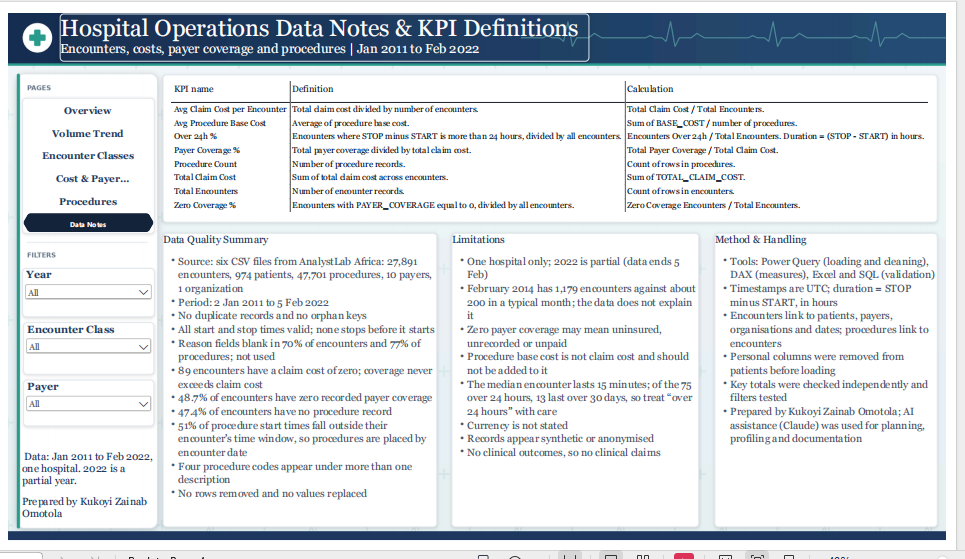

What the dashboard file says about the page in this screenshot:
{"tool":"powerbi","page":{"name":"Data Notes","canvas":[1920,1080],"ordinal":5},"visuals":[{"type":"textbox","box":[104.6,0,1085.1,97.8],"z":0},{"type":"slicer","fields":{"Values":["DateTable.Year"]},"box":[28.5,522.1,270.6,99.7],"z":1000},{"type":"slicer","fields":{"Values":["payers.NAME"]},"box":[29.6,750.7,268.2,94.9],"z":2000},{"type":"textbox","box":[28.5,894.7,270.6,159],"z":9000},{"type":"pageNavigator","box":[28.5,173.3,270.6,277.7],"z":10000},{"type":"slicer","fields":{"Values":["encounters.ENCOUNTERCLASS"]},"box":[29.6,632.9,268.2,106.8],"z":14000},{"type":"tableEx","fields":{"Values":["KPI_Definitions.KPI name","KPI_Definitions.Definition","KPI_Definitions.Calculation"]},"box":[316.2,125.1,1587.9,302.6],"z":14001},{"type":"textbox","title":"Data Quality Summary","box":[316.2,450.4,561.9,602.8],"z":14002},{"type":"textbox","title":"Limitations","box":[907.7,450.4,507.3,602.8],"z":14003},{"type":"textbox","title":"Method & Handling","box":[1446.8,450.4,457.3,602.8],"z":14004}]}

Visuals, with their boxes on the page's 1920x1080 design canvas (x1, y1, x2, y2). These are canvas units, not pixel positions in the 965x559 screenshot, which may show the page scaled, cropped or inside an application window:
textbox: 105:0:1190:98
slicer - DateTable.Year: 28:522:299:622
slicer - payers.NAME: 30:751:298:846
textbox: 28:895:299:1054
pageNavigator: 28:173:299:451
slicer - encounters.ENCOUNTERCLASS: 30:633:298:740
tableEx - KPI_Definitions.KPI name x KPI_Definitions.Definition: 316:125:1904:428
"Data Quality Summary" textbox: 316:450:878:1053
"Limitations" textbox: 908:450:1415:1053
"Method & Handling" textbox: 1447:450:1904:1053
